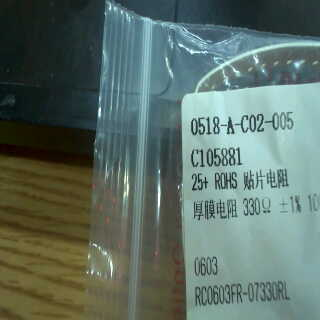330R: (241, 195, 275, 222)
